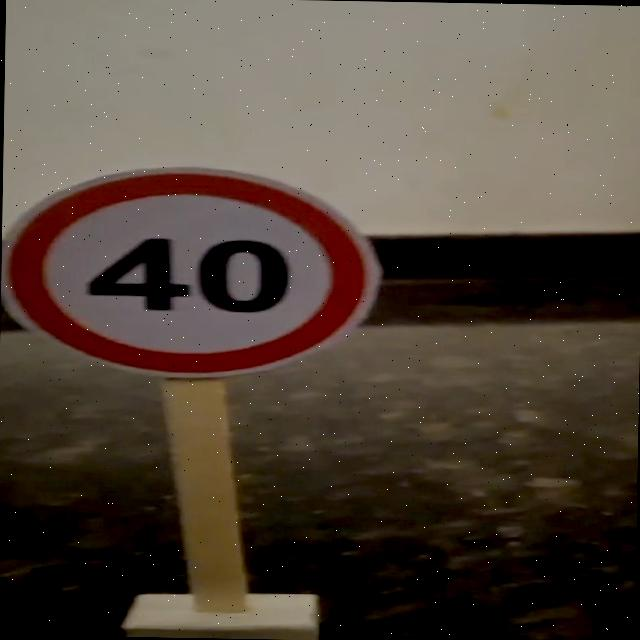Speed40: (0, 154, 392, 385)
